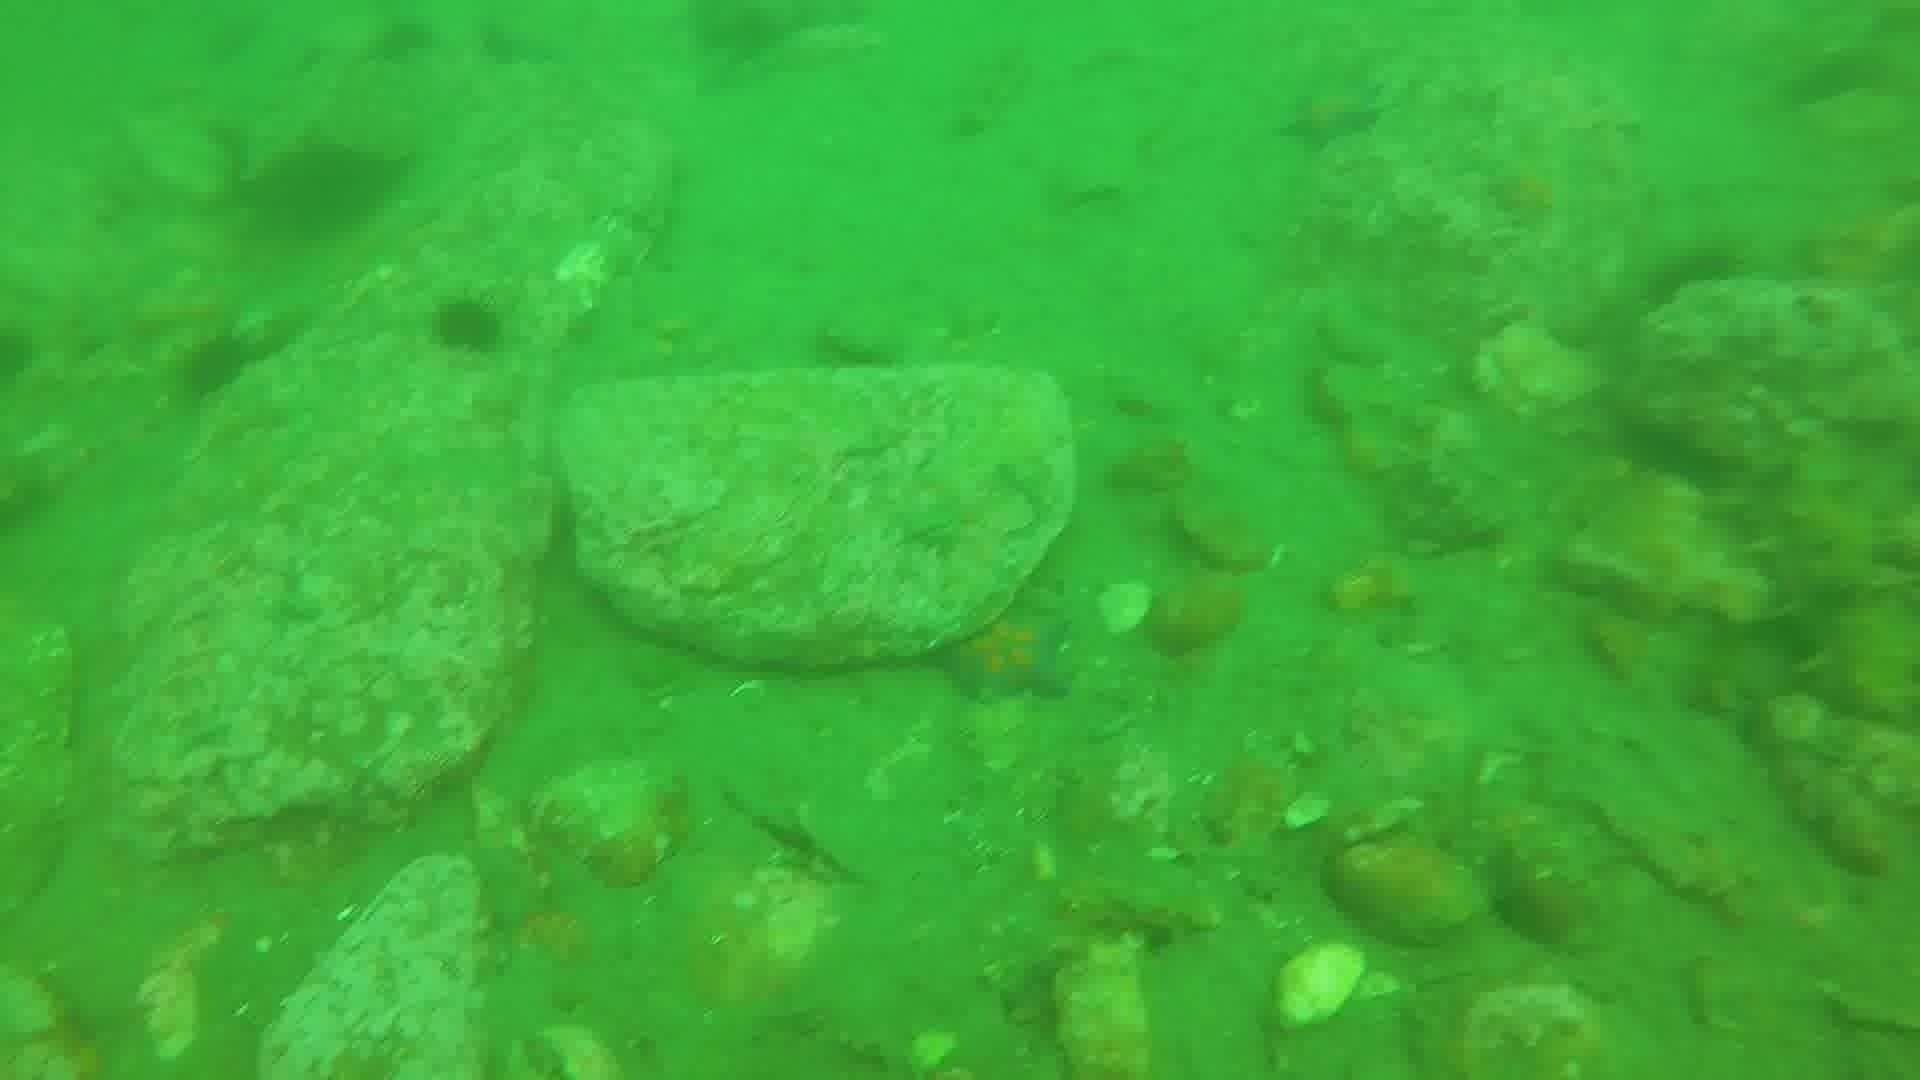echinus: (248, 136, 398, 245), (1636, 237, 1745, 316), (171, 328, 258, 405), (426, 291, 509, 361)
holothurian: (1714, 448, 1915, 723)
starfish: (932, 593, 1077, 709), (1275, 73, 1389, 156)
